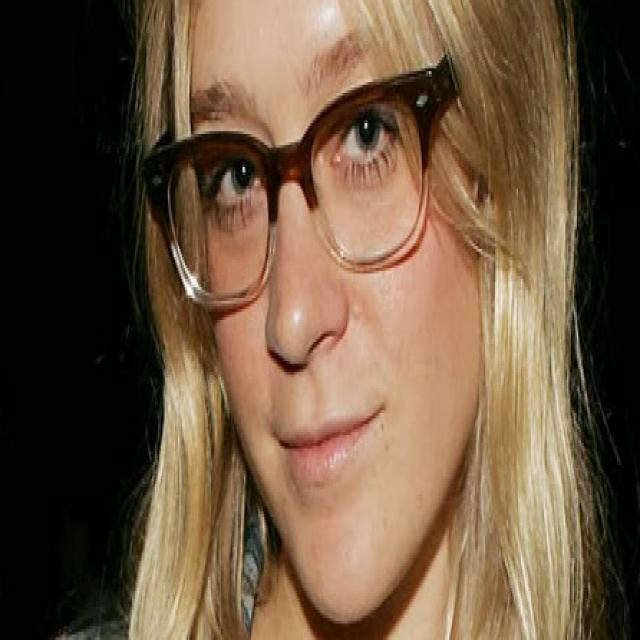Glasses: (143, 45, 457, 317)
